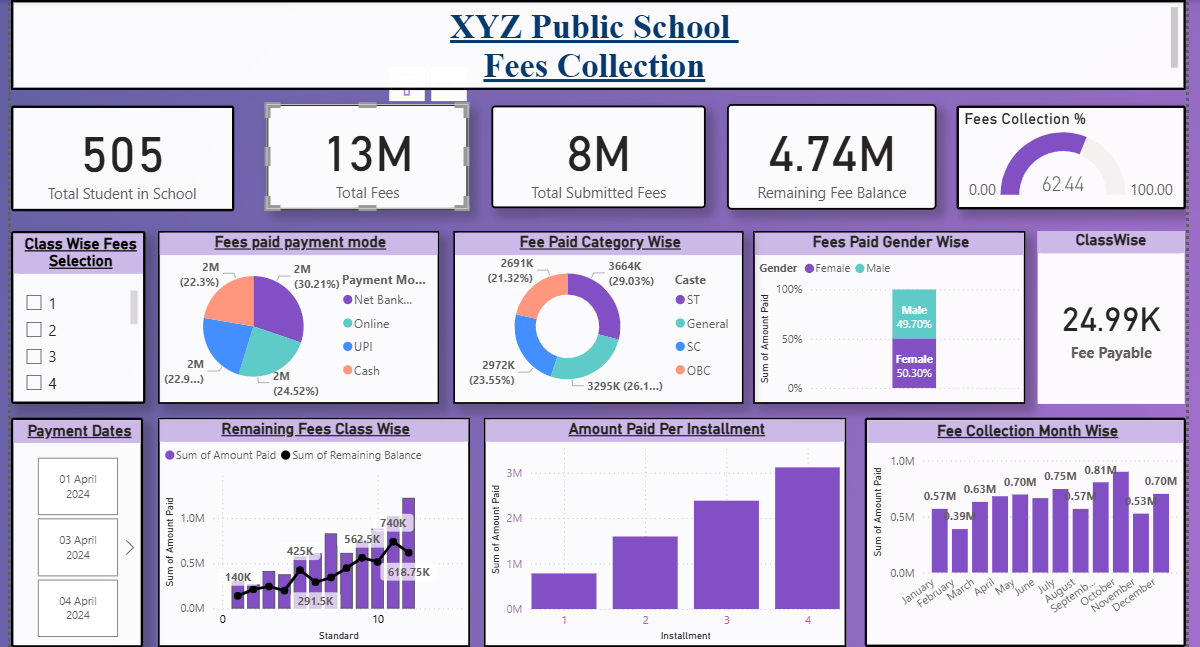

The page's visual inventory and layout, read from the dashboard file:
{"tool":"powerbi","page":{"name":"Page 1","canvas":[1280,720],"ordinal":0},"visuals":[{"type":"card","fields":{"Values":["Sum(Sheet1.Fee Payable)"]},"box":[278.2,113.3,219.9,114.9],"z":0},{"type":"card","fields":{"Values":["Sum(Sheet1.Remaining Balance)"]},"box":[779.6,113.3,228.2,114.9],"z":1000},{"type":"lineStackedColumnComboChart","title":"Remaining Fees Class Wise","fields":{"Category":["Sheet1.Standard"],"Y2":["Sum(Sheet1.Remaining Balance)"],"Y":["Sum(Sheet1.Amount Paid)"]},"box":[159.9,454.8,339.8,249.9],"z":2000},{"type":"pieChart","title":"Fees paid payment mode","fields":{"Category":["Sheet1.Payment Mode"],"Y":["Sum(Sheet1.Amount Paid)"]},"box":[159.9,251.5,306.5,188.2],"z":3000},{"type":"clusteredColumnChart","title":"Amount Paid Per Installment","fields":{"Category":["Sheet1.Installment"],"Y":["Sum(Sheet1.Amount Paid)"]},"box":[514.7,454.8,394.8,249.9],"z":4000},{"type":"hundredPercentStackedColumnChart","title":"Fees Paid Gender Wise","fields":{"Series":["Sheet1.Gender"],"Y":["Sum(Sheet1.Amount Paid)"]},"box":[807.9,251.5,296.5,188.2],"z":5000},{"type":"donutChart","title":"Fee Paid Category Wise","fields":{"Category":["Sheet1.Caste"],"Y":["Sum(Sheet1.Fee Payable)"]},"box":[481.4,251.5,316.5,188.2],"z":6000},{"type":"textbox","box":[0,0,1279.3,98.3],"z":7000},{"type":"card","fields":{"Values":["Sum(Sheet1.Amount Paid)"]},"box":[523,114.9,233.2,111.6],"z":8000},{"type":"slicer","title":"Class Wise Fees Selection","fields":{"Values":["Sheet1.Standard"]},"box":[0,251.5,146.6,188.2],"z":9000},{"type":"slicer","title":"Payment Dates","fields":{"Values":["Sheet1.Payment Date"]},"box":[0,454,144,250],"z":10000},{"type":"gauge","fields":{"Y":["Sheet1.Collection %"]},"box":[1029.4,114.9,249.9,113.3],"z":11000},{"type":"clusteredColumnChart","title":"Fee Collection Month Wise","fields":{"Category":["Sheet1.Payment Date.Variation.Date Hierarchy.Year","Sheet1.Payment Date.Variation.Date Hierarchy.Quarter","Sheet1.Payment Date.Variation.Date Hierarchy.Month","Sheet1.Payment Date.Variation.Date Hierarchy.Day"],"Y":["Sum(Sheet1.Amount Paid)"]},"box":[929.5,454.8,349.8,249.9],"z":12000},{"type":"card","fields":{"Values":["CountNonNull(Sheet1.Student ID)"]},"box":[0,114.9,243.2,114.9],"z":13000},{"type":"card","title":"ClassWise","fields":{"Values":["Avg(Sheet1.Fee Payable)"]},"box":[1117.7,251.5,159.9,188.2],"z":14000}]}

Visuals, with their boxes in screenshot pixels (x1, y1, x2, y2):
card - Sum(Sheet1.Fee Payable): 262/101/464/206
card - Sum(Sheet1.Remaining Balance): 722/101/932/206
"Remaining Fees Class Wise" lineStackedColumnComboChart: 153/415/465/644
"Fees paid payment mode" pieChart: 153/228/435/401
"Amount Paid Per Installment" clusteredColumnChart: 479/415/842/644
"Fees Paid Gender Wise" hundredPercentStackedColumnChart: 748/228/1021/401
"Fee Paid Category Wise" donutChart: 448/228/739/401
textbox: 6/0/1181/87
card - Sum(Sheet1.Amount Paid): 487/102/701/205
"Class Wise Fees Selection" slicer: 6/228/141/401
"Payment Dates" slicer: 6/414/139/644
gauge - Sheet1.Collection %: 952/102/1181/206
"Fee Collection Month Wise" clusteredColumnChart: 860/415/1181/644
card - CountNonNull(Sheet1.Student ID): 6/102/230/208
"ClassWise" card: 1033/228/1180/401
